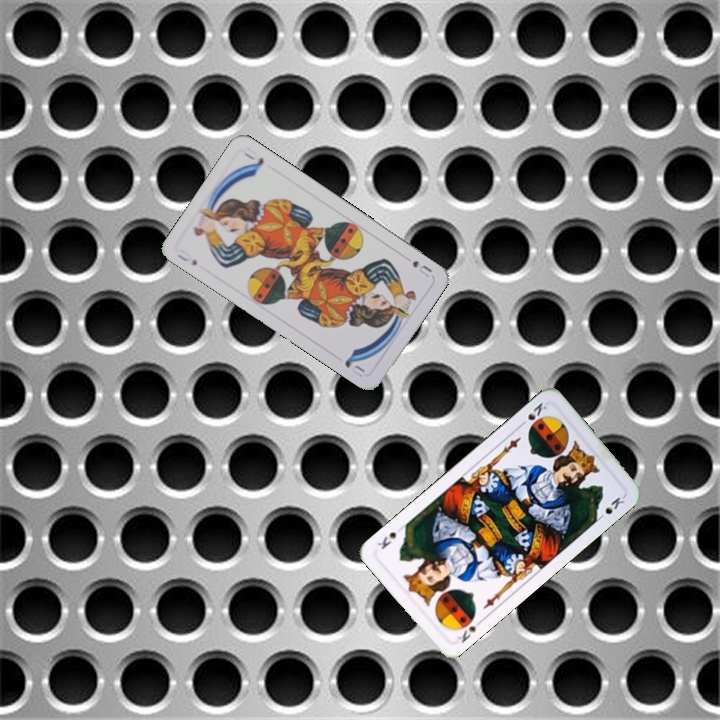SK: (515, 398, 549, 430), (453, 615, 486, 646)
SU: (408, 256, 435, 280), (173, 245, 200, 268)
